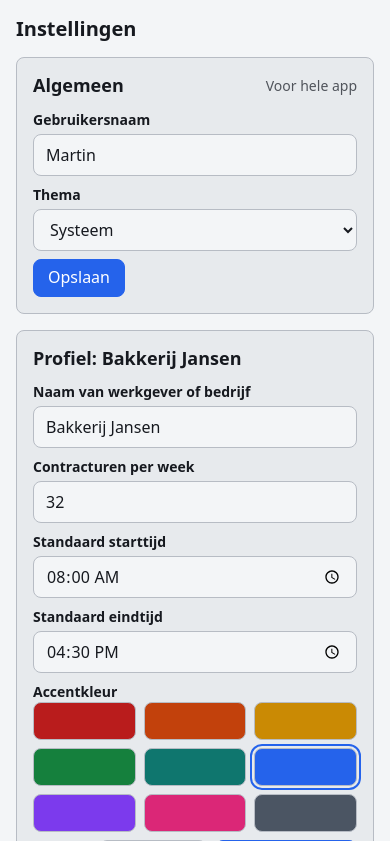
Test: SettingsPage › wijzigt het app-brede thema onder Algemeen
This screenshot has width=390, height=841.
Select "Donker" in the dropdown with id "settings-theme". click: [195, 230]
box: [33, 208, 357, 250]
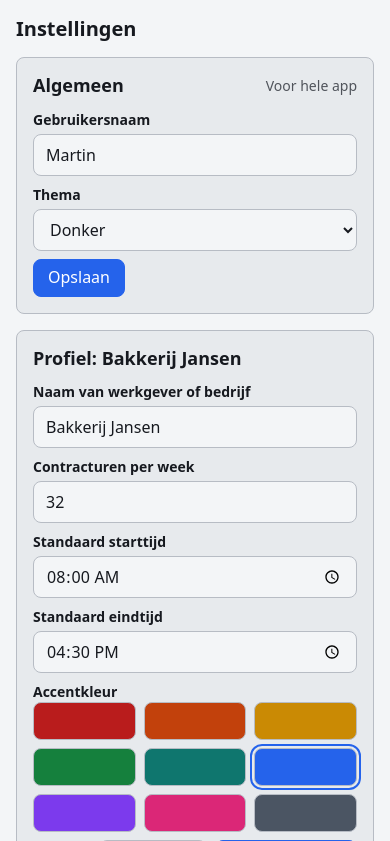
Submit the form "Gebruikersnaam Thema Opslaan", box [33, 108, 357, 296]
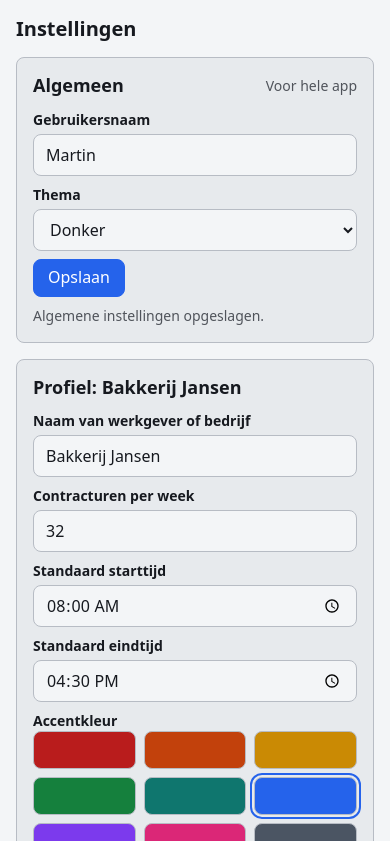
Expected: the text "Algemene instellingen opgeslagen." is shown, [33, 306, 264, 324]
